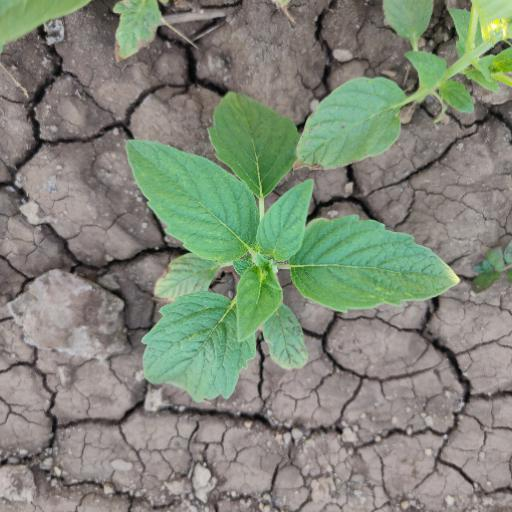crop: (119, 83, 467, 415)
